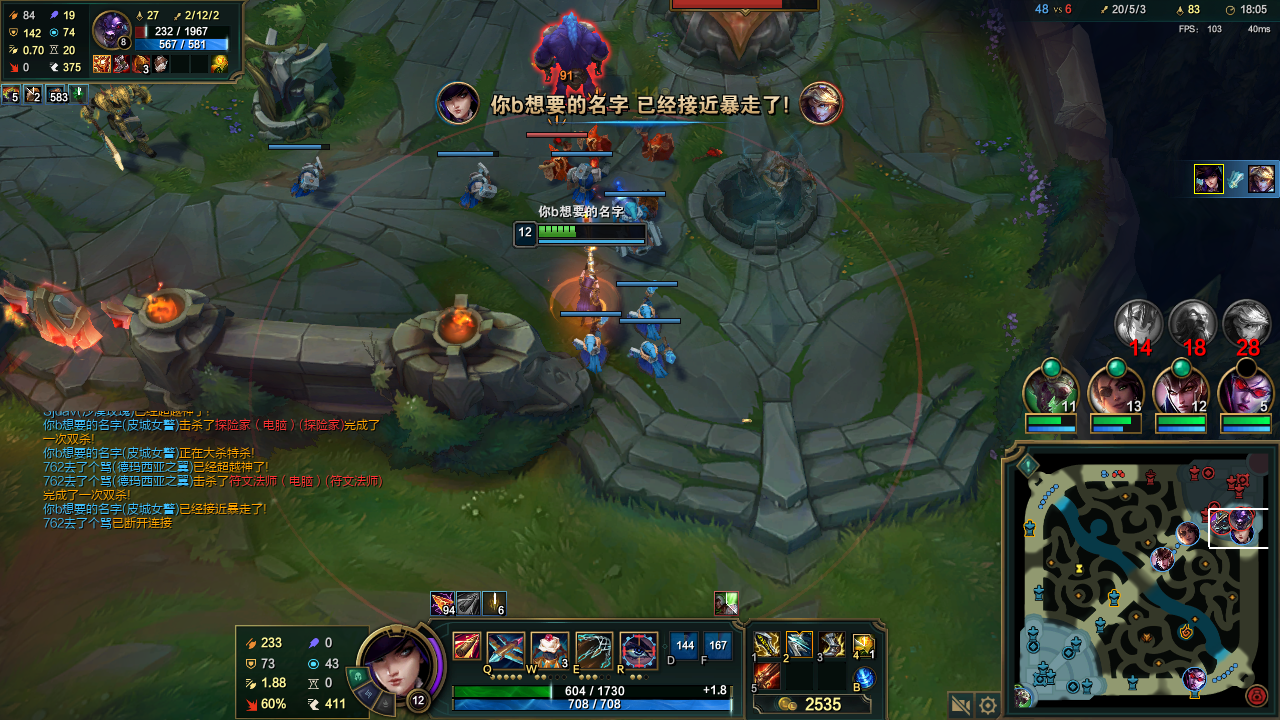DFSJ: (667, 2, 800, 54)
DFXB: (576, 128, 610, 155), (541, 152, 570, 179)
WFXB: (609, 193, 672, 256), (450, 166, 503, 215), (635, 338, 681, 381), (572, 330, 613, 371), (626, 294, 662, 330), (286, 159, 326, 191), (568, 169, 603, 203)
